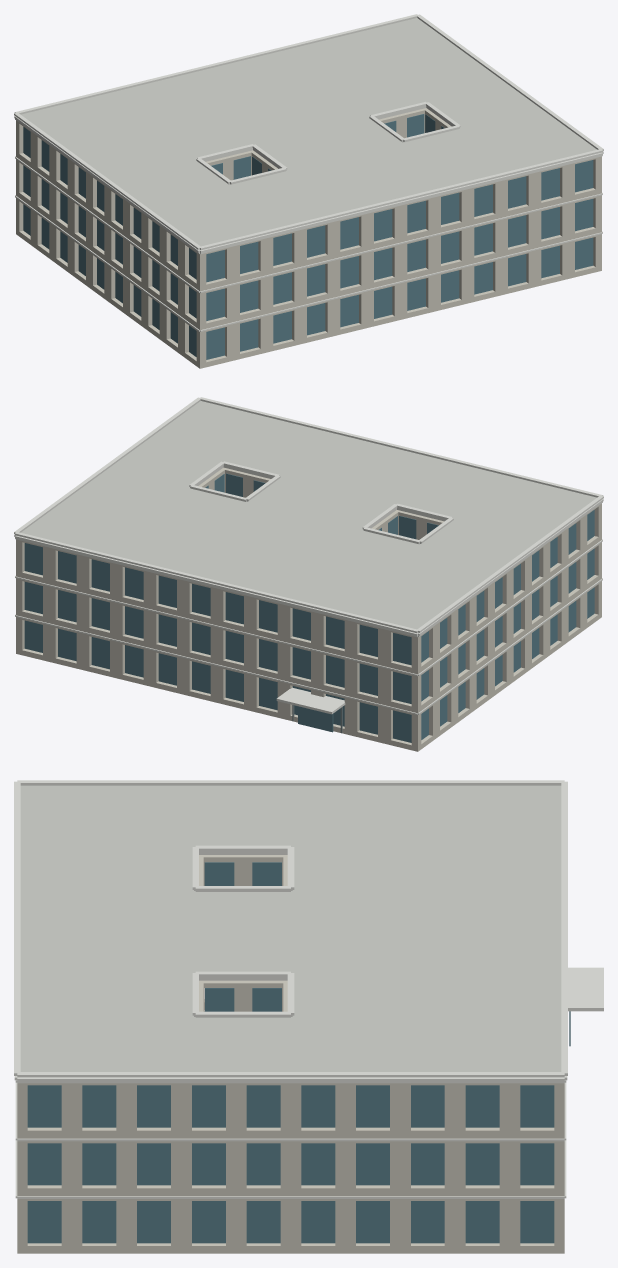
File: he_canteen.far.glb
The picture shows the model from 3 angles, top to bottom: view 1: azimuth 30°, elevation 25°; view 2: azimuth 150°, elevation 25°; view 3: azimuth 270°, elevation 25°; orthographic projection. The views are drawn at different scales.
Parts seen in each view (by area): view 1: roof, living_wall, glass, white_frame; view 2: roof, living_wall, glass, white_frame; view 3: roof, living_wall, glass, white_frame.
Boxes of the visible parts, x1=… form: roof: x1=21, y1=18, x2=596, y2=250; living_wall: x1=16, y1=108, x2=601, y2=368; glass: x1=23, y1=114, x2=593, y2=359; white_frame: x1=14, y1=14, x2=603, y2=331; roof: x1=21, y1=401, x2=596, y2=633; living_wall: x1=16, y1=467, x2=601, y2=751; glass: x1=24, y1=473, x2=594, y2=742; white_frame: x1=14, y1=397, x2=603, y2=714; roof: x1=20, y1=785, x2=561, y2=1071; living_wall: x1=17, y1=855, x2=564, y2=1253; glass: x1=27, y1=862, x2=570, y2=1243; white_frame: x1=14, y1=780, x2=603, y2=1198.
Size of the model in its own units: 58.55 by 16.7 by 49.57.
